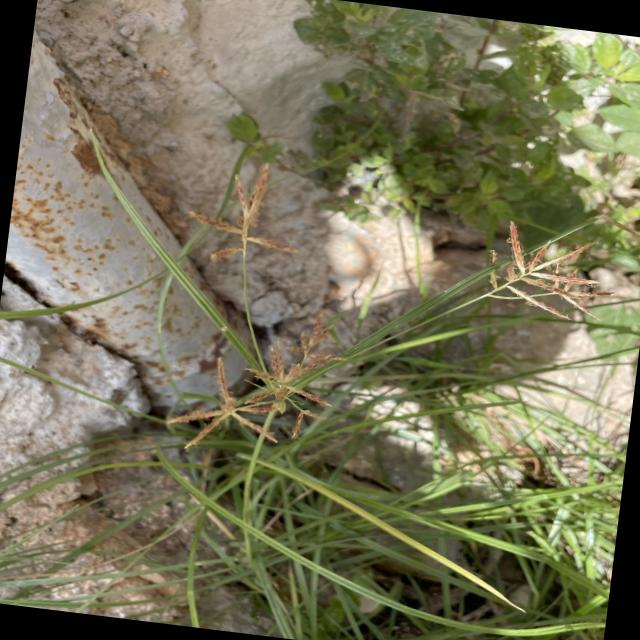cyperus: (160, 294, 350, 478), (169, 152, 316, 282), (470, 212, 616, 338)
